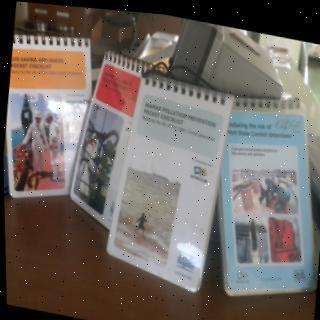book: (97, 60, 239, 292), (196, 76, 320, 307)
